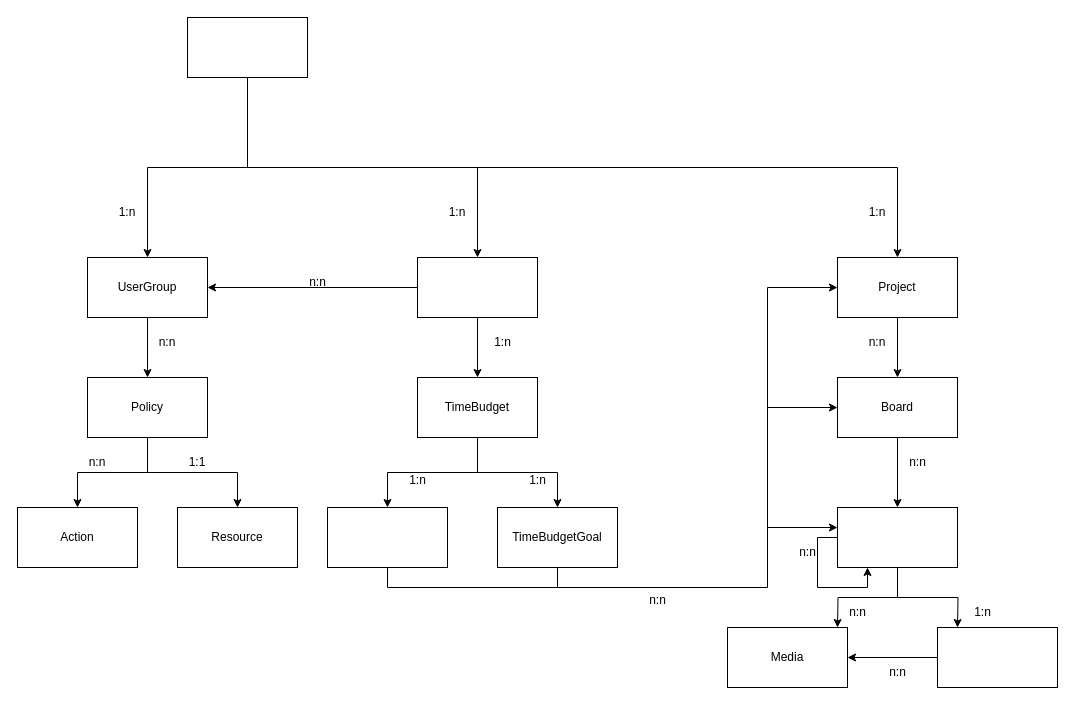
This 1075x705 diagram has some shape labels left out. The shapes that lost their labels are listed below. From the top down, each one's centre as x and y in pixels, then its label:
the point at 247,47: Account
the point at 477,287: User
the point at 387,537: TimeBudgetEntry
the point at 897,537: ListNode
the point at 997,657: Comment
